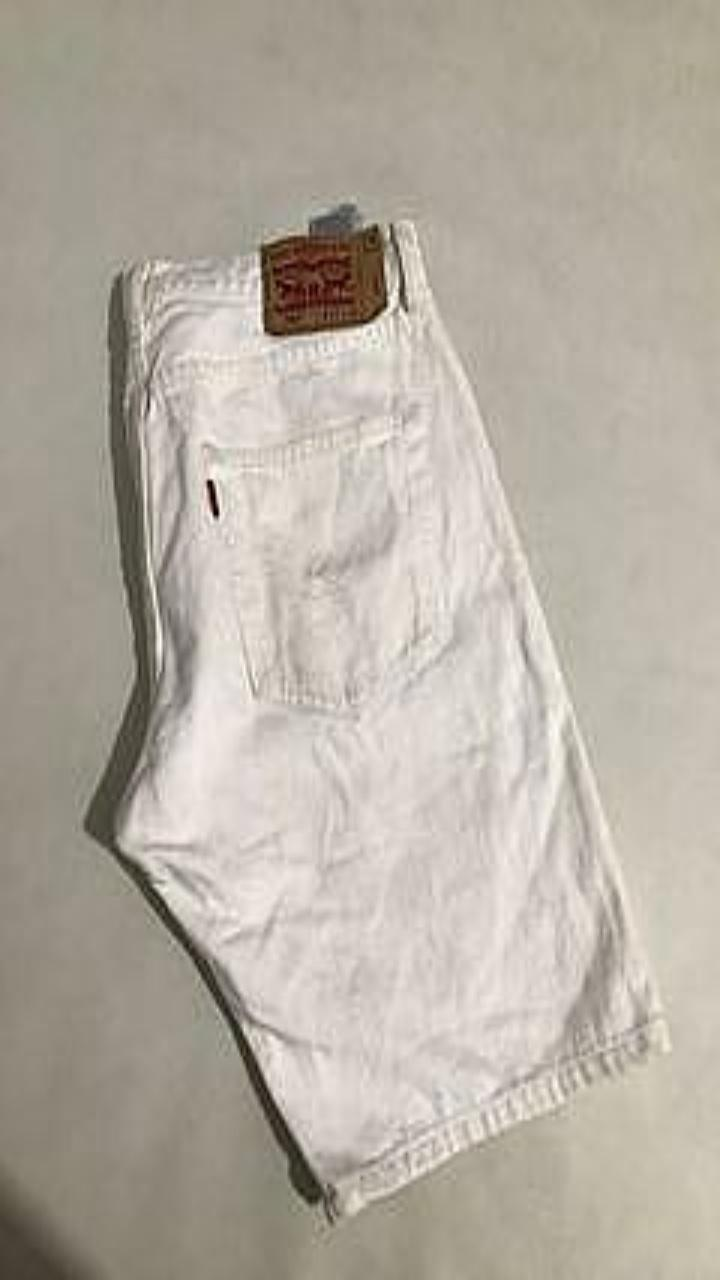Shorts: (115, 219, 670, 1221)
